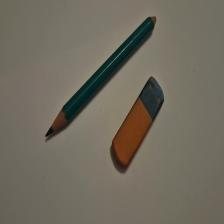eraser: (112, 77, 165, 169)
pencil: (46, 17, 157, 138)
